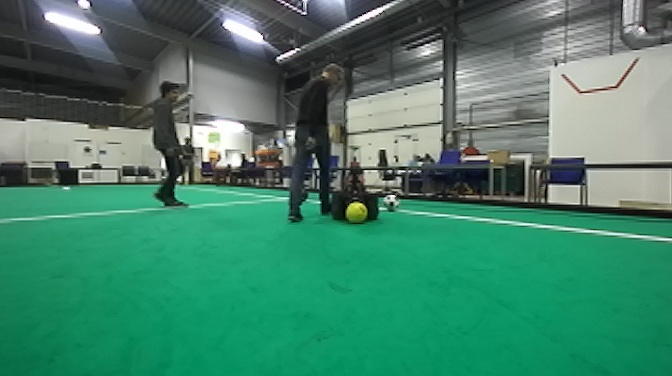ball: (344, 201, 368, 225), (381, 191, 401, 212)
human: (284, 62, 344, 223), (144, 79, 188, 210)
robot: (327, 145, 380, 223)
